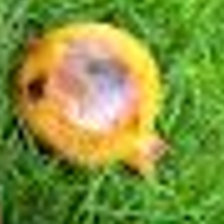pomegranate_C: (15, 21, 171, 179)
